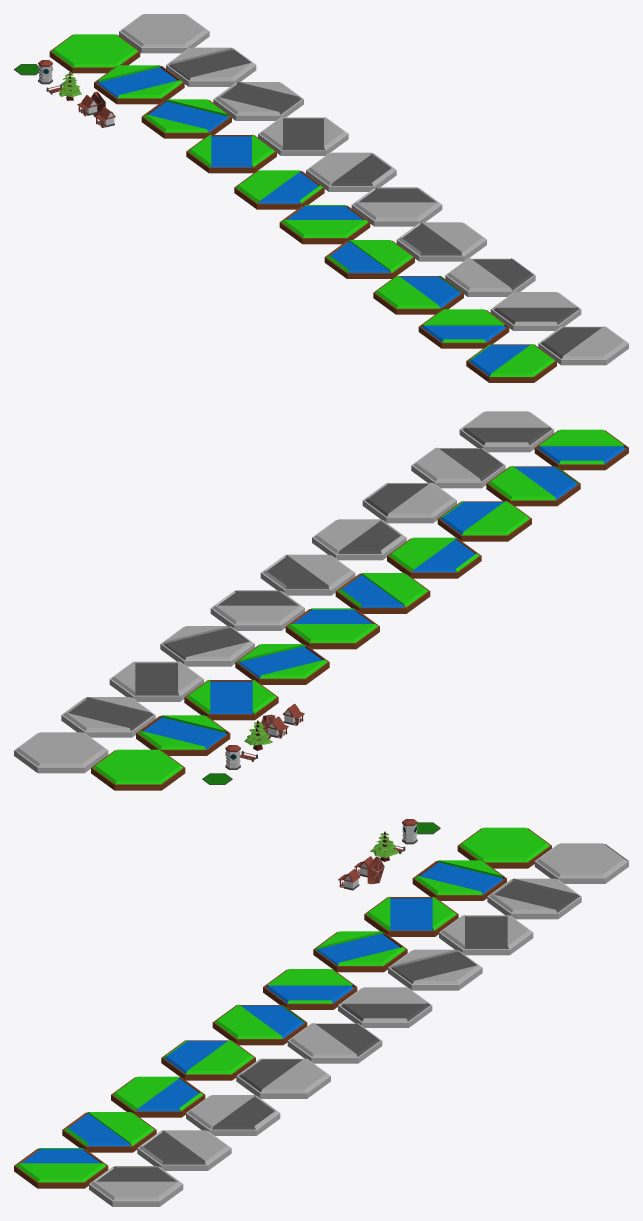
File: ALL.fbx
The picture shows the model from 3 angles, top to bottom: view 1: azimuth 30°, elevation 25°; view 2: azimuth 150°, elevation 25°; view 3: azimuth 330°, elevation 25°; orthographic projection. The views are drawn at different scales.
Visible parts, largest first — view 1: SV4, SV1, SL0, SL1, GV5, SV0, GV2, SL2, SV5, GV1, SV2, GS (+8 smaller); view 2: SS, SV2, GS, SV5, SV0, GV2, GV1, SV3, GV5, SV1, SL2, SL1 (+8 smaller); view 3: GL2, GL0, SL2, GV5, GV2, GV1, GL1, GV0, SV3, GV4, GV3, SV2 (+9 smaller).
Part boxes in pixels (left/top/right/bottom): SV4: left=418, top=309, right=509, bottom=348; SV1: left=279, top=205, right=370, bottom=244; SL0: left=94, top=65, right=184, bottom=104; SL1: left=141, top=99, right=231, bottom=138; GV5: left=538, top=326, right=628, bottom=365; SV0: left=234, top=170, right=324, bottom=209; GV2: left=396, top=222, right=486, bottom=261; SL2: left=186, top=134, right=276, bottom=173; SV5: left=466, top=344, right=556, bottom=382; GV1: left=351, top=187, right=442, bottom=226; SV2: left=324, top=240, right=414, bottom=278; GS: left=119, top=14, right=209, bottom=53; SS: left=91, top=749, right=185, bottom=790; SV2: left=387, top=537, right=481, bottom=578; GS: left=14, top=732, right=108, bottom=773; SV5: left=534, top=429, right=628, bottom=470; SV0: left=285, top=608, right=379, bottom=649; GV2: left=312, top=519, right=406, bottom=560; GV1: left=260, top=554, right=355, bottom=595; SV3: left=437, top=501, right=531, bottom=541; GV5: left=459, top=411, right=553, bottom=452; SV1: left=335, top=573, right=430, bottom=613; SL2: left=235, top=644, right=329, bottom=684; SL1: left=184, top=679, right=278, bottom=720; GL2: left=388, top=949, right=482, bottom=990; GL0: left=487, top=878, right=581, bottom=919; SL2: left=313, top=931, right=407, bottom=972; GV5: left=89, top=1166, right=183, bottom=1206; GV2: left=236, top=1058, right=330, bottom=1098; GV1: left=287, top=1023, right=382, bottom=1063; GL1: left=439, top=915, right=533, bottom=955; GV0: left=338, top=987, right=432, bottom=1027; SV3: left=111, top=1076, right=205, bottom=1117; GV4: left=137, top=1130, right=231, bottom=1170; GV3: left=186, top=1095, right=280, bottom=1135; SV2: left=161, top=1040, right=255, bottom=1080.
Size of the model in its own units: 482 by 84.71 by 2070.
